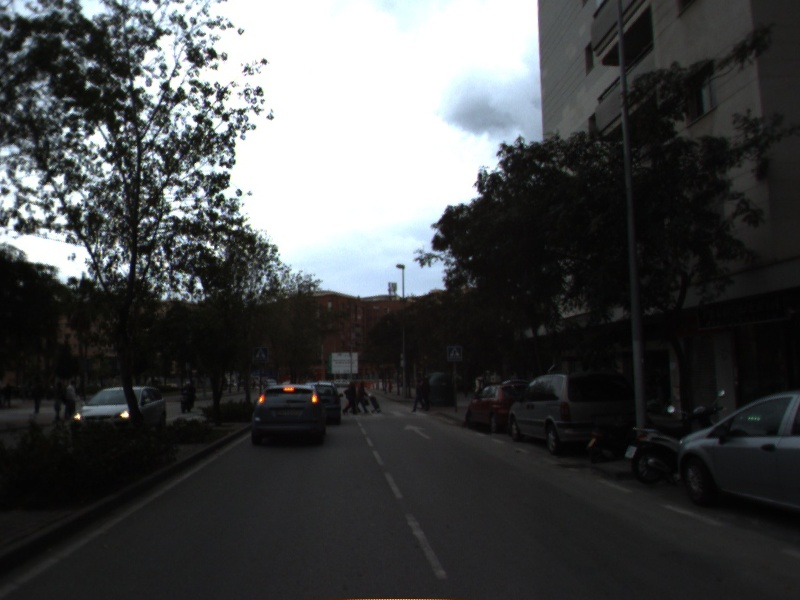STRAIGHT: (401, 422, 434, 441)
